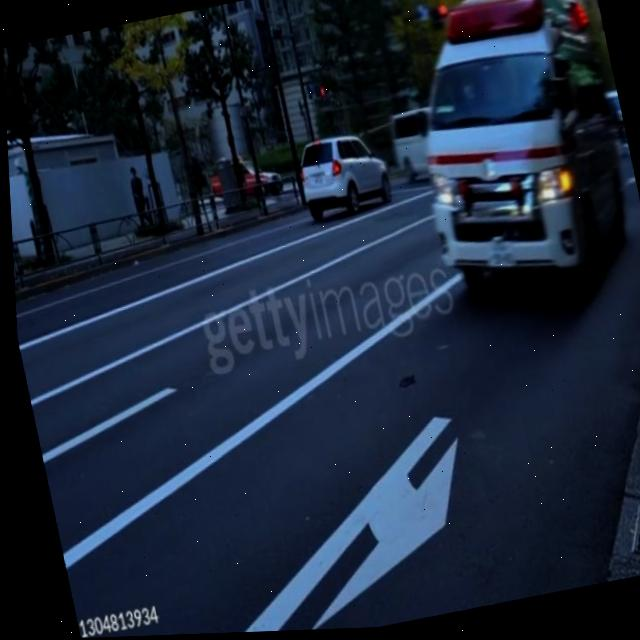emergency: (385, 0, 615, 306)
